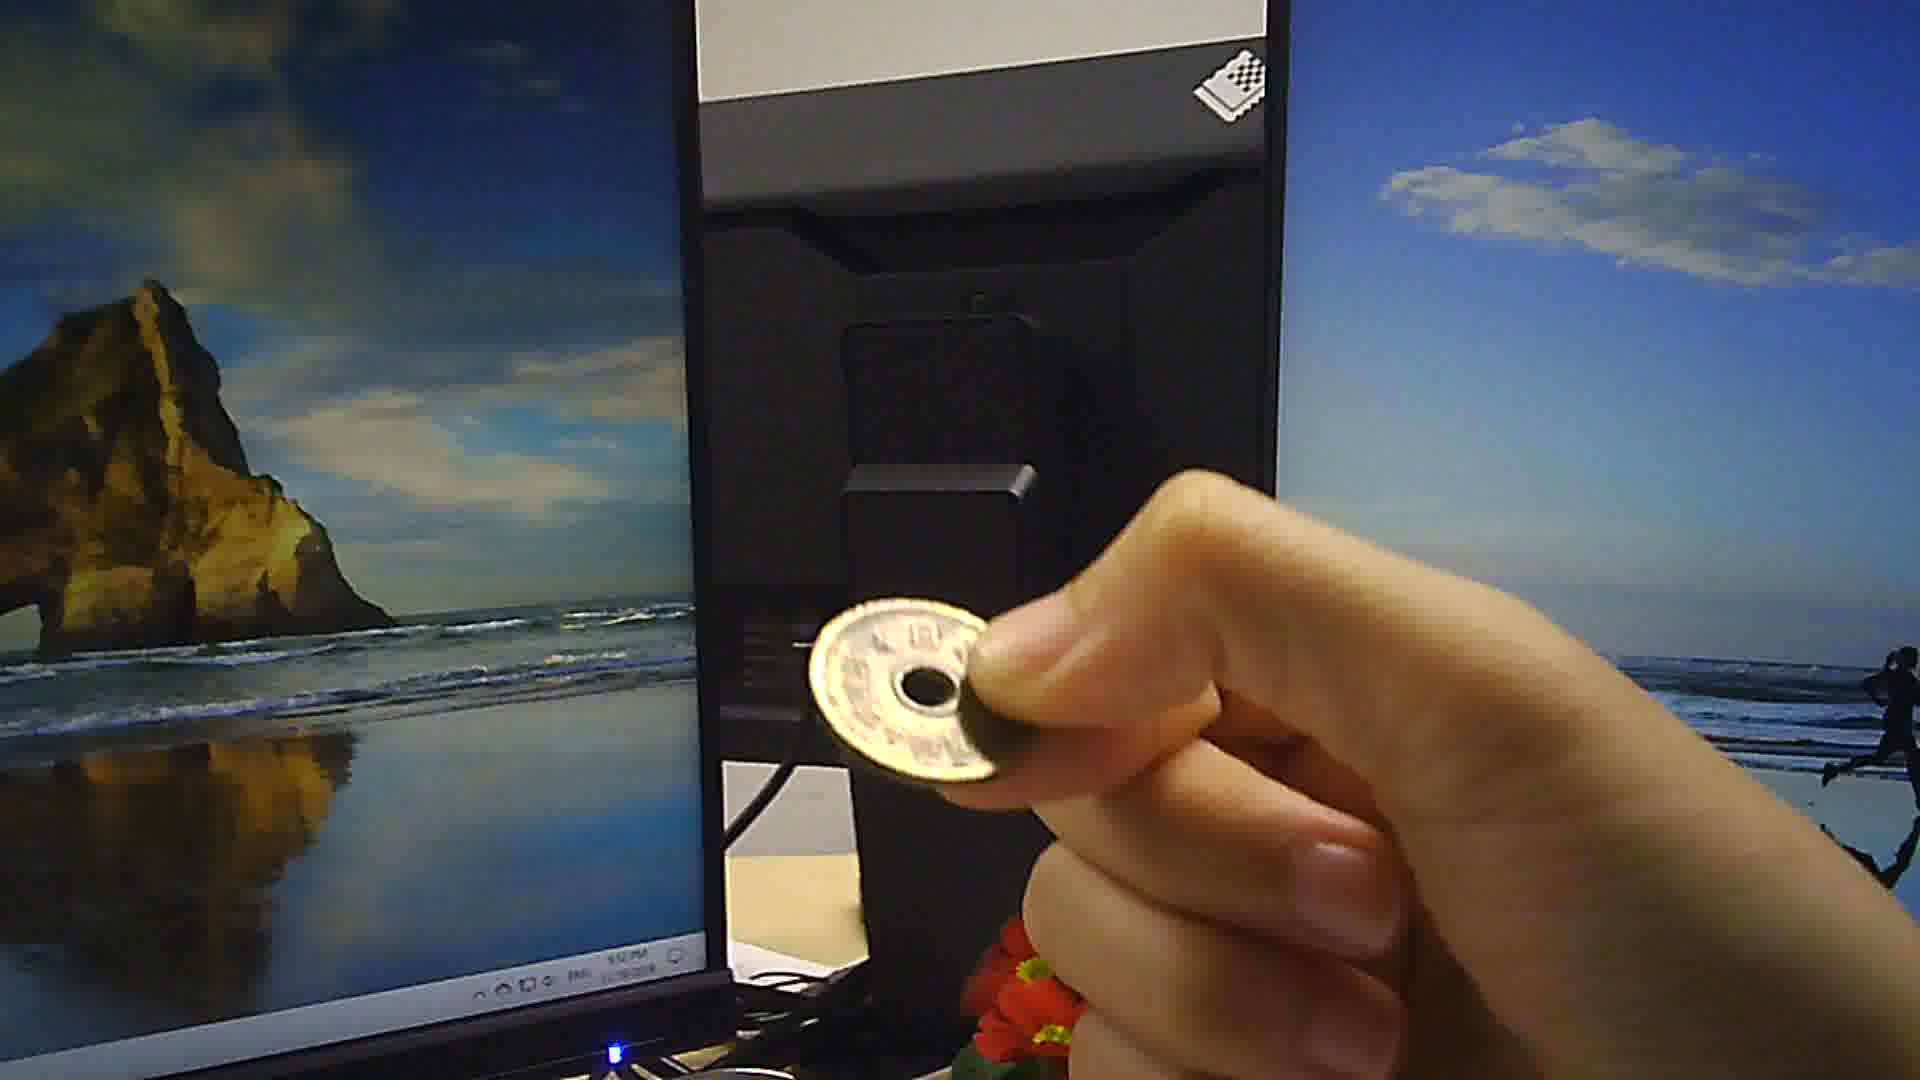5 Yen: (807, 593, 1043, 785)
